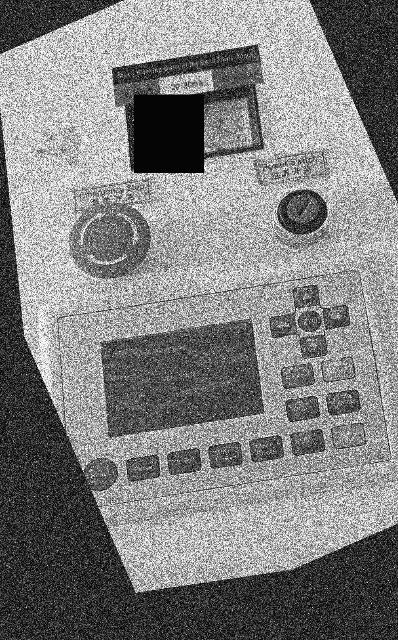Amp_Meter: (204, 86, 262, 154)
Display: (101, 320, 264, 437)
Down_button: (300, 335, 327, 358)
Emergency_Stop: (70, 203, 150, 279)
Enter_button: (322, 357, 355, 382)
Esc_button: (281, 364, 315, 389)
File_button: (291, 429, 325, 455)
Frame_button: (327, 390, 360, 415)
Left_button: (270, 314, 296, 337)
Max-Power_button: (250, 436, 283, 462)
Min-Power_button: (209, 442, 242, 468)
Origin_button: (286, 396, 320, 421)
Power_switch: (272, 189, 328, 245)
Pulse_button: (127, 456, 160, 481)
Reset_button: (84, 458, 117, 491)
Right_button: (323, 305, 350, 329)
Speed_button: (168, 449, 201, 475)
Start-Pause_button: (332, 423, 365, 449)
Up_button: (293, 286, 320, 308)
Z_U_button: (299, 310, 322, 331)
